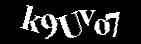7: (105, 12, 120, 36)
9: (40, 13, 57, 38)
U: (55, 10, 81, 38)
k: (20, 5, 41, 32)
o: (94, 19, 110, 34)
v: (78, 10, 95, 25)
